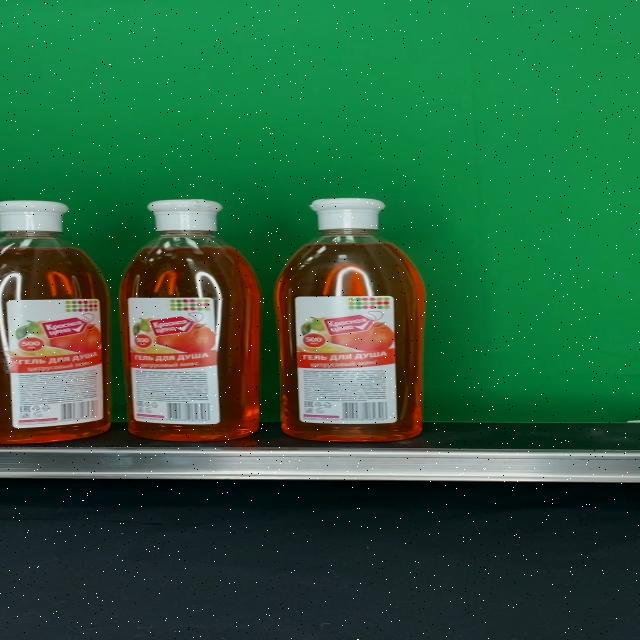Bottle: (276, 198, 424, 441), (118, 200, 260, 441)
Cap: (146, 200, 222, 232), (309, 198, 385, 230)
